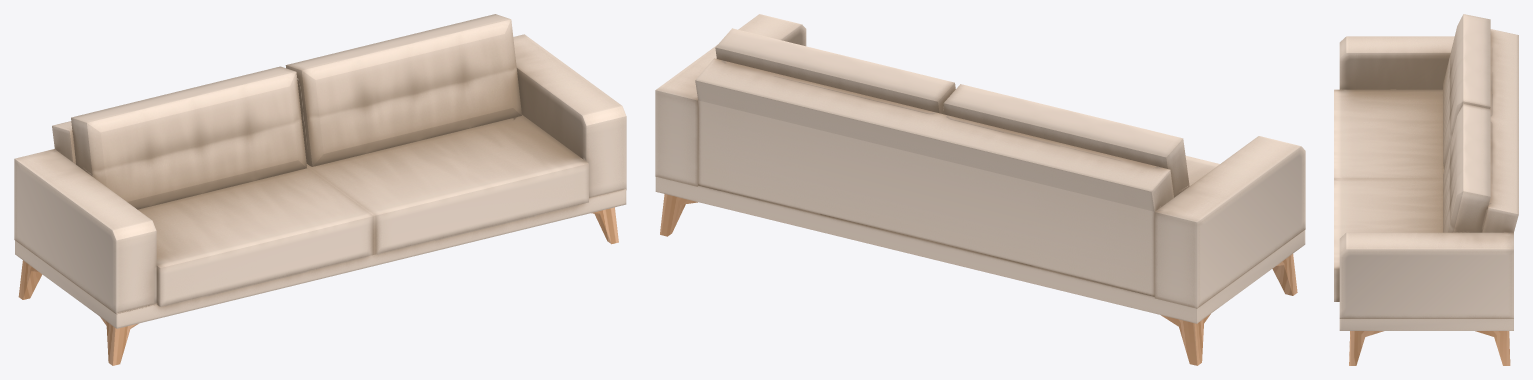
File: sofaDoubleWhite.glb
3 renders of one model, left to right at view 1: azimuth 30°, elevation 25°; view 2: azimuth 150°, elevation 25°; view 3: azimuth 270°, elevation 25°, orthographic. The views are drawn at different scales.
Visible parts, largest first — view 1: Object_38; view 2: Object_38; view 3: Object_38.
Part boxes in pixels (x1,y1,x2,y2): Object_38: (14,14,626,365); Object_38: (655,14,1305,365); Object_38: (1334,14,1518,365).
Bounding box in the file's own units: 8.41 × 2.9 × 3.08.
1 material, 1 textured.
